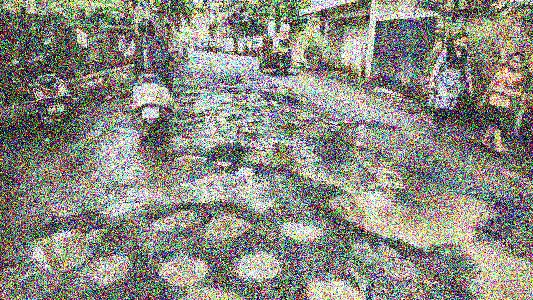pothole: (325, 177, 498, 247), (24, 219, 106, 272), (463, 245, 532, 299), (240, 136, 322, 176), (158, 252, 210, 285), (304, 272, 372, 297), (235, 248, 283, 278), (86, 251, 130, 282), (151, 205, 200, 232), (203, 211, 253, 236), (180, 284, 248, 299), (281, 220, 322, 239), (171, 151, 208, 164), (233, 165, 256, 177), (215, 160, 234, 166)
